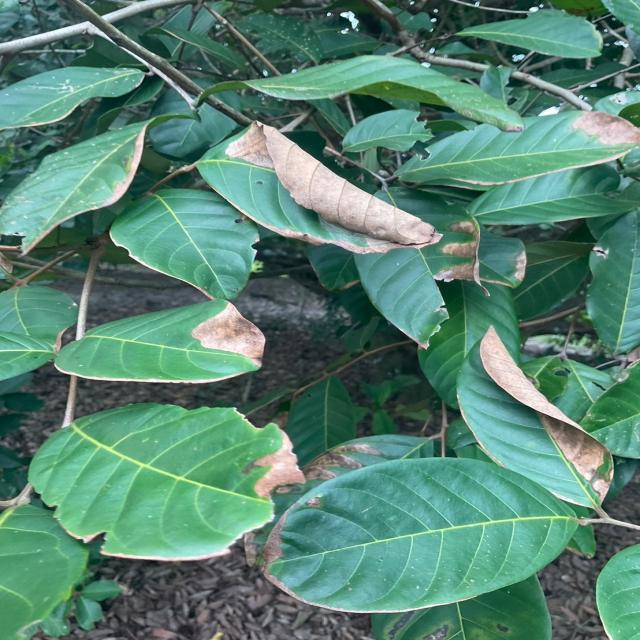Leaf Blight: (28, 400, 301, 562), (197, 122, 444, 253), (458, 328, 611, 507), (188, 300, 267, 370), (436, 219, 485, 290), (101, 129, 145, 202), (575, 111, 638, 154)
